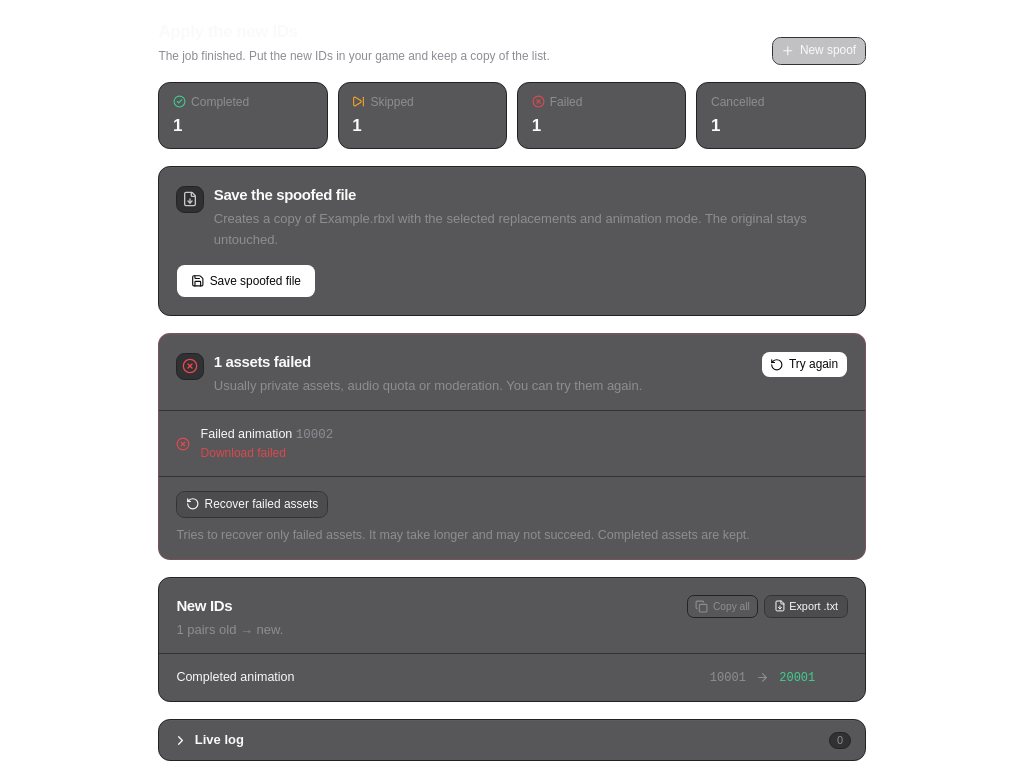
Test case: final-result failed asset recovery › reports a failed native clip separately from successfully saved replacements
Click the button "Save spoofed file" at (246, 281), box [176, 264, 316, 298]
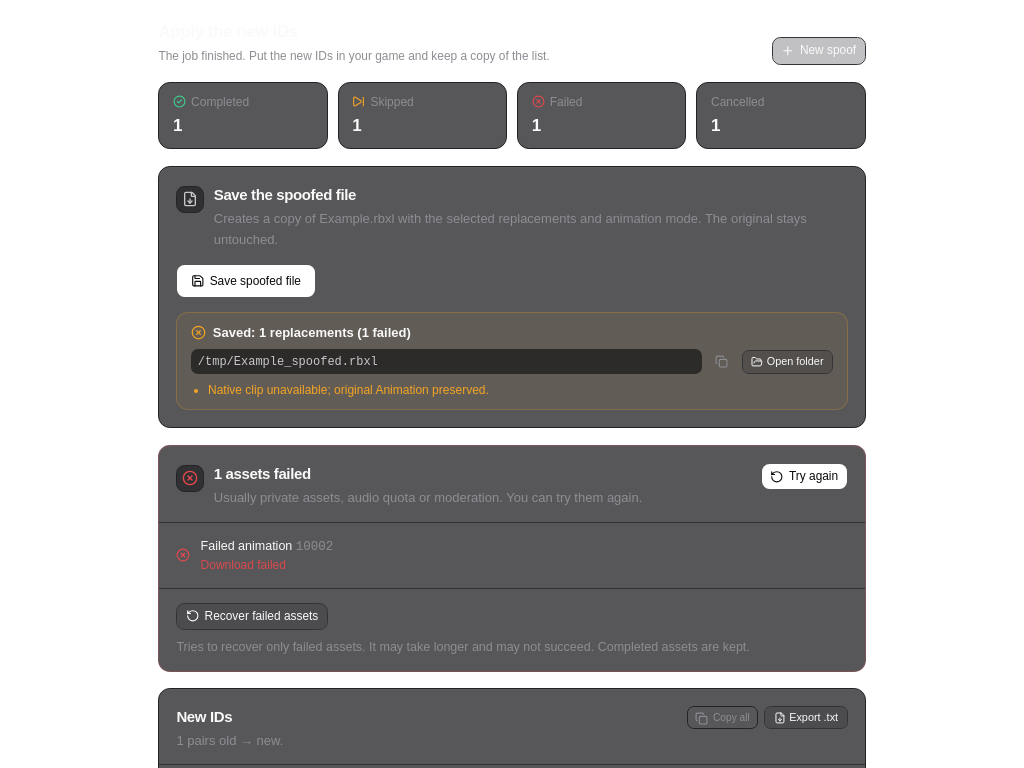
expect the list item "Native clip unavailable; original Animation preserved." is shown: met, box [208, 383, 489, 397]
expect the text "/tmp/Example_spoofed.rbxl" is shown: met, box [191, 349, 702, 374]
